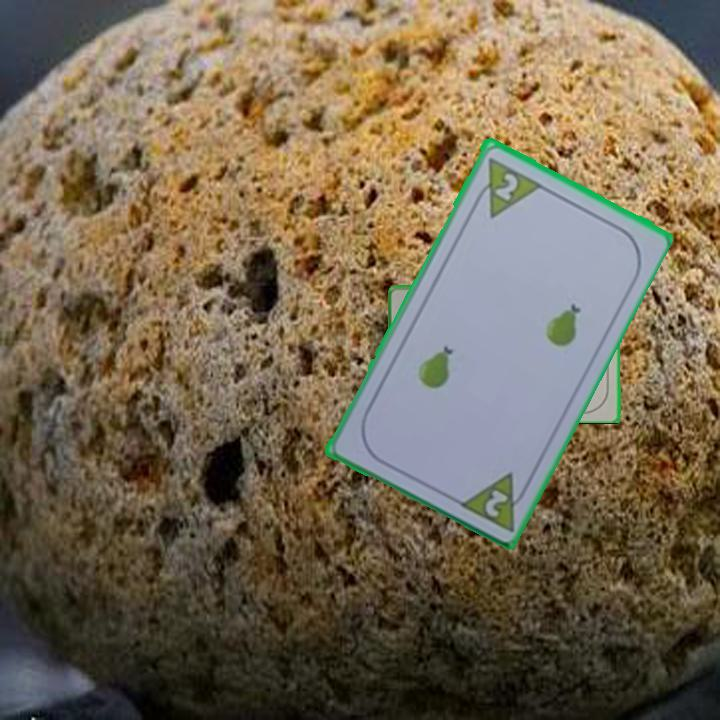2p: (454, 468, 534, 534), (468, 153, 543, 221)
